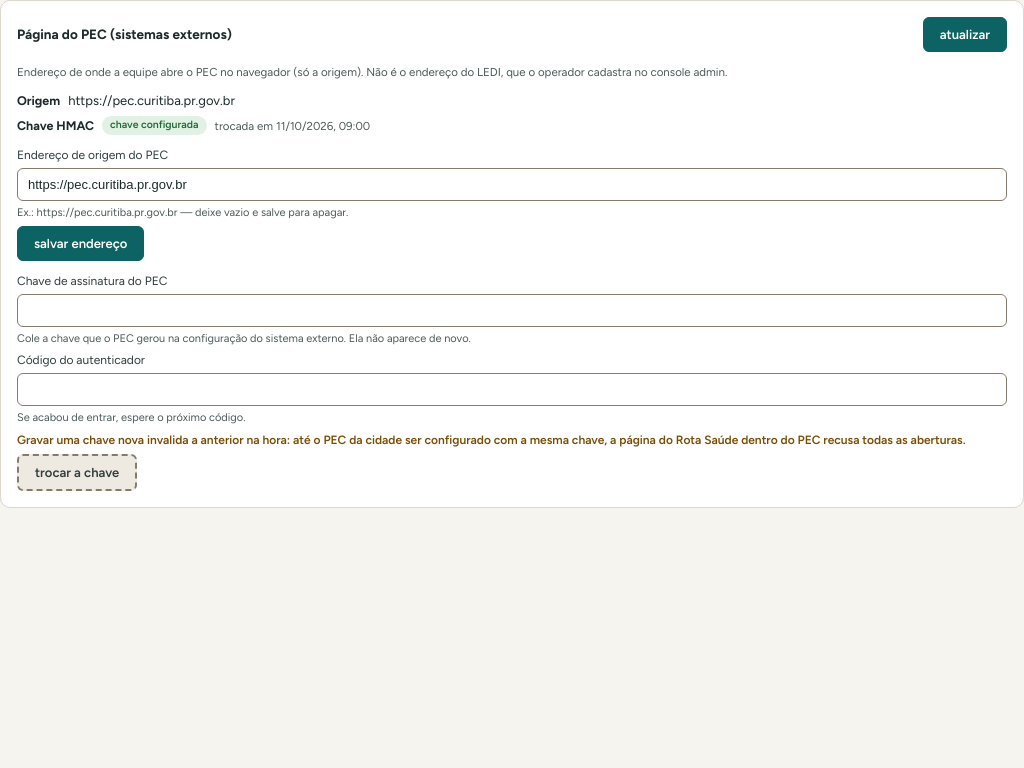
PecConfigPanel › endereço com caminho é recusado na tela; com barra final vai normalizado
The width and height of the screenshot is (1024, 768).
Check: the element named "configuração do PEC" is shown, box [17,93,370,135]
Replace the text in the field labelled "Endereço de origem do PEC" with "https://pec.curitiba.pr.gov.br/esus" at [512, 184], box [17,168,1007,201]
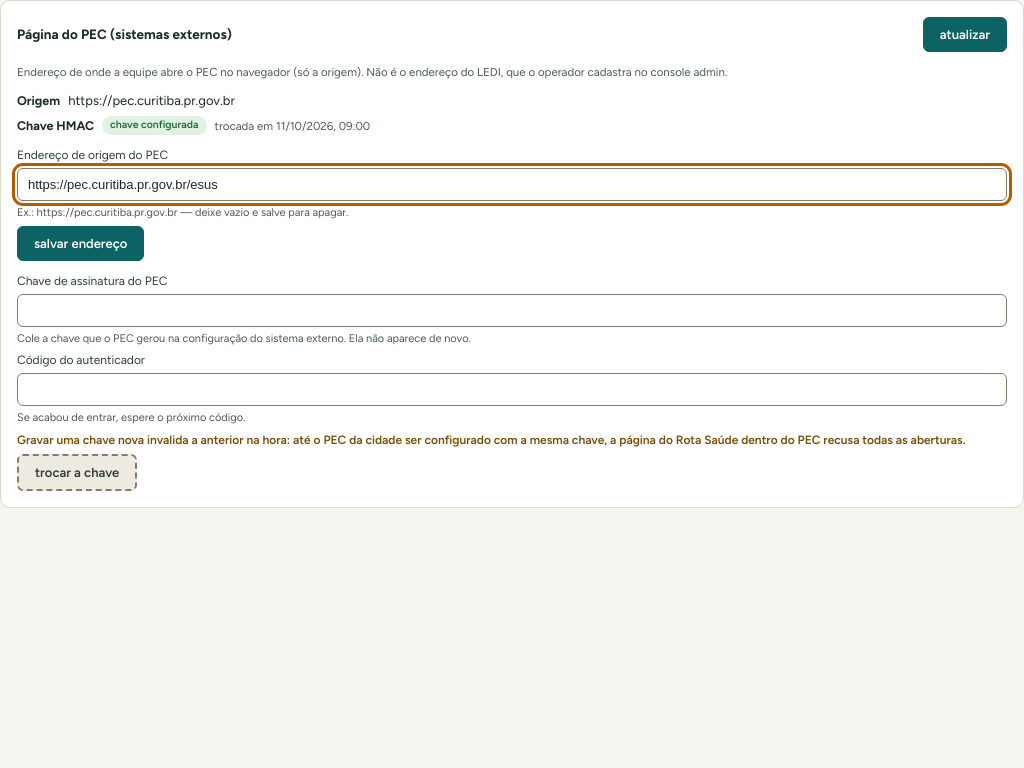
Click the button "salvar endereço" at [81, 244], box [17,226,144,261]
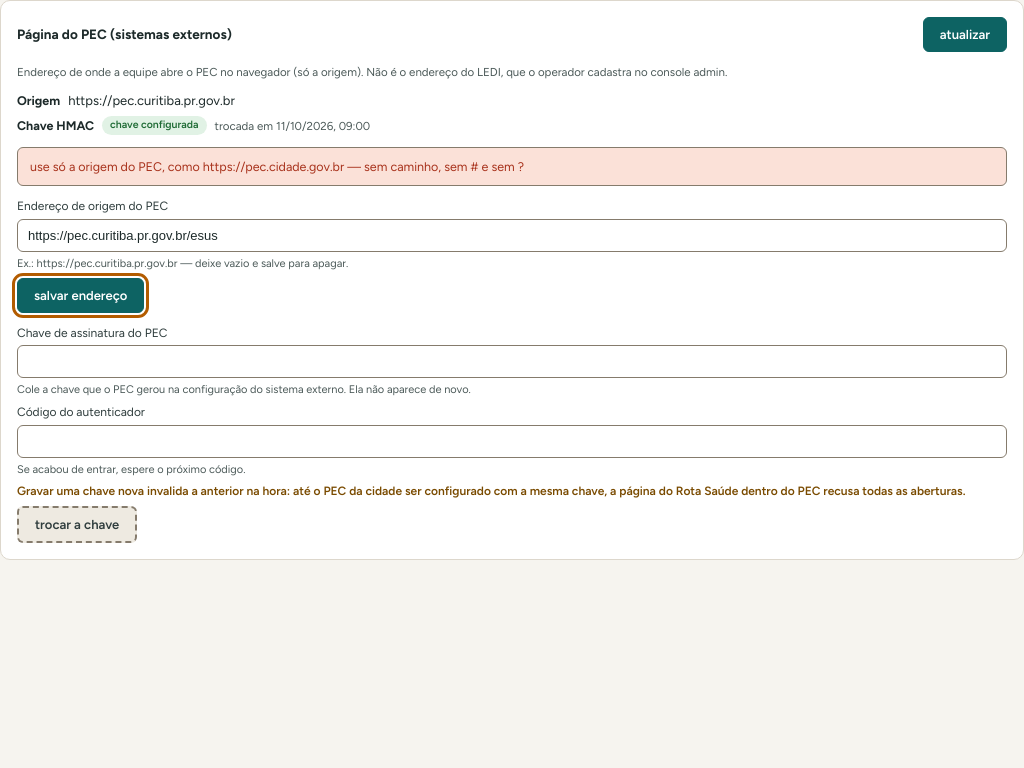
Check: the message shows "sem caminho", box [30,159,524,174]
Replace the text in the field labelled "Endereço de origem do PEC" with "  https://pec2.curitiba.pr.gov.br/  " at [512, 236], box [17,219,1007,252]
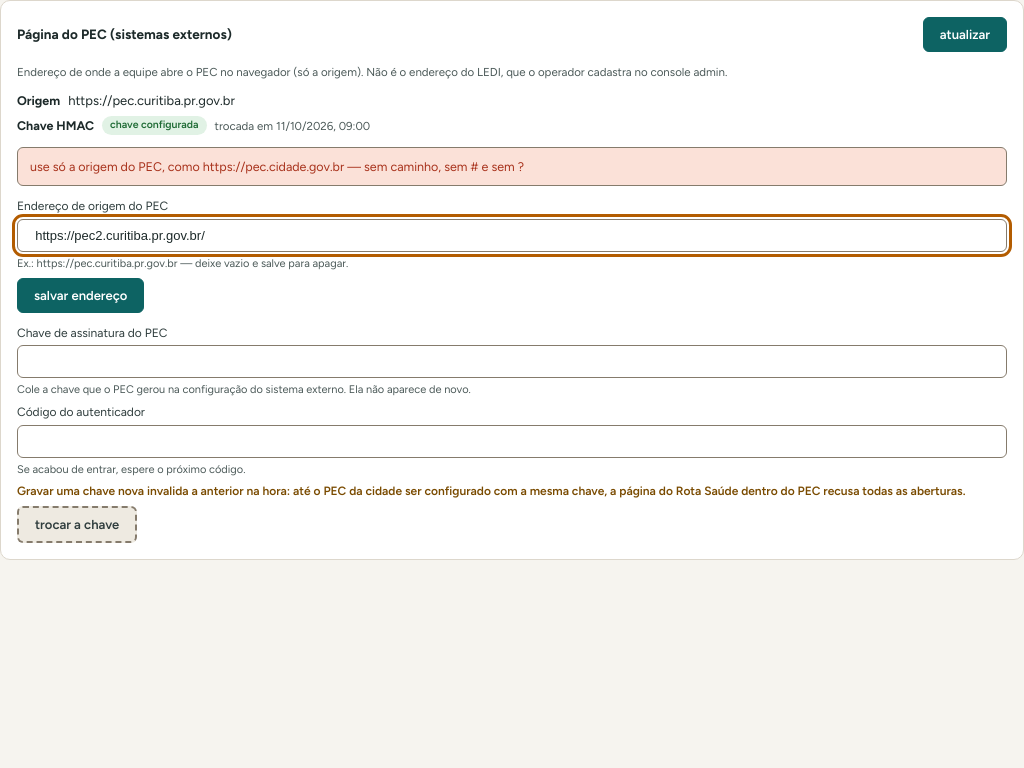
Click the button "salvar endereço" at [81, 295], box [17,278,144,313]
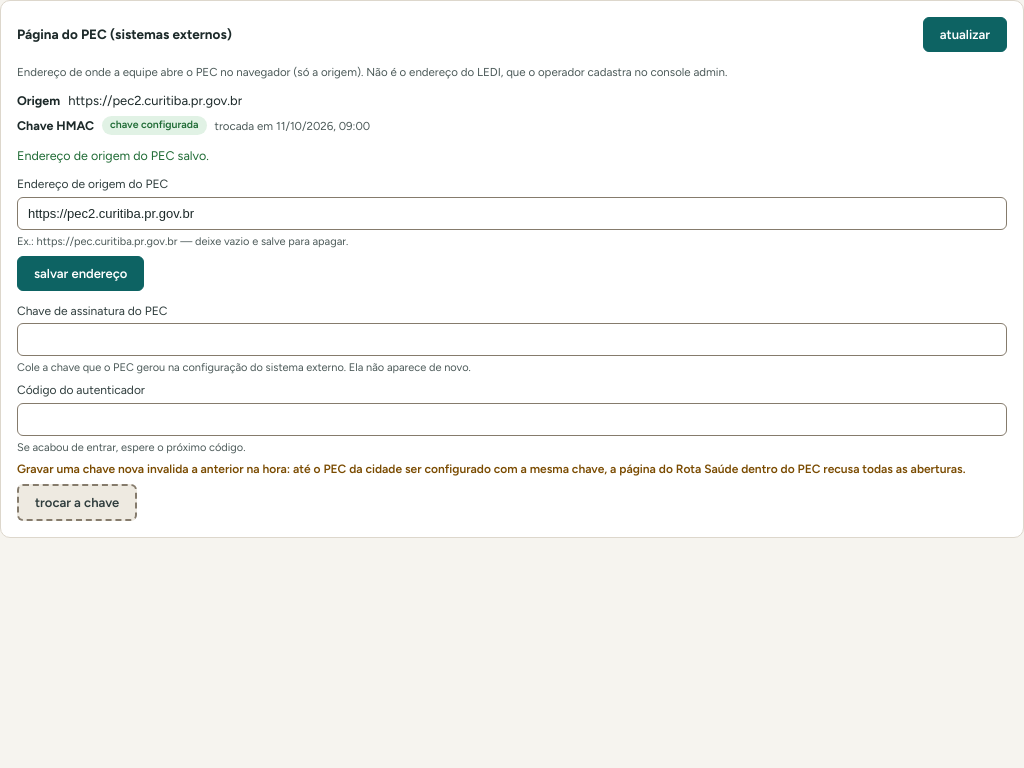
Check: the message reads "Endereço de origem do PEC salvo.", box [17,148,209,163]
Check: the text "https://pec2.curitiba.pr.gov.br" is shown, box [68,92,242,110]
